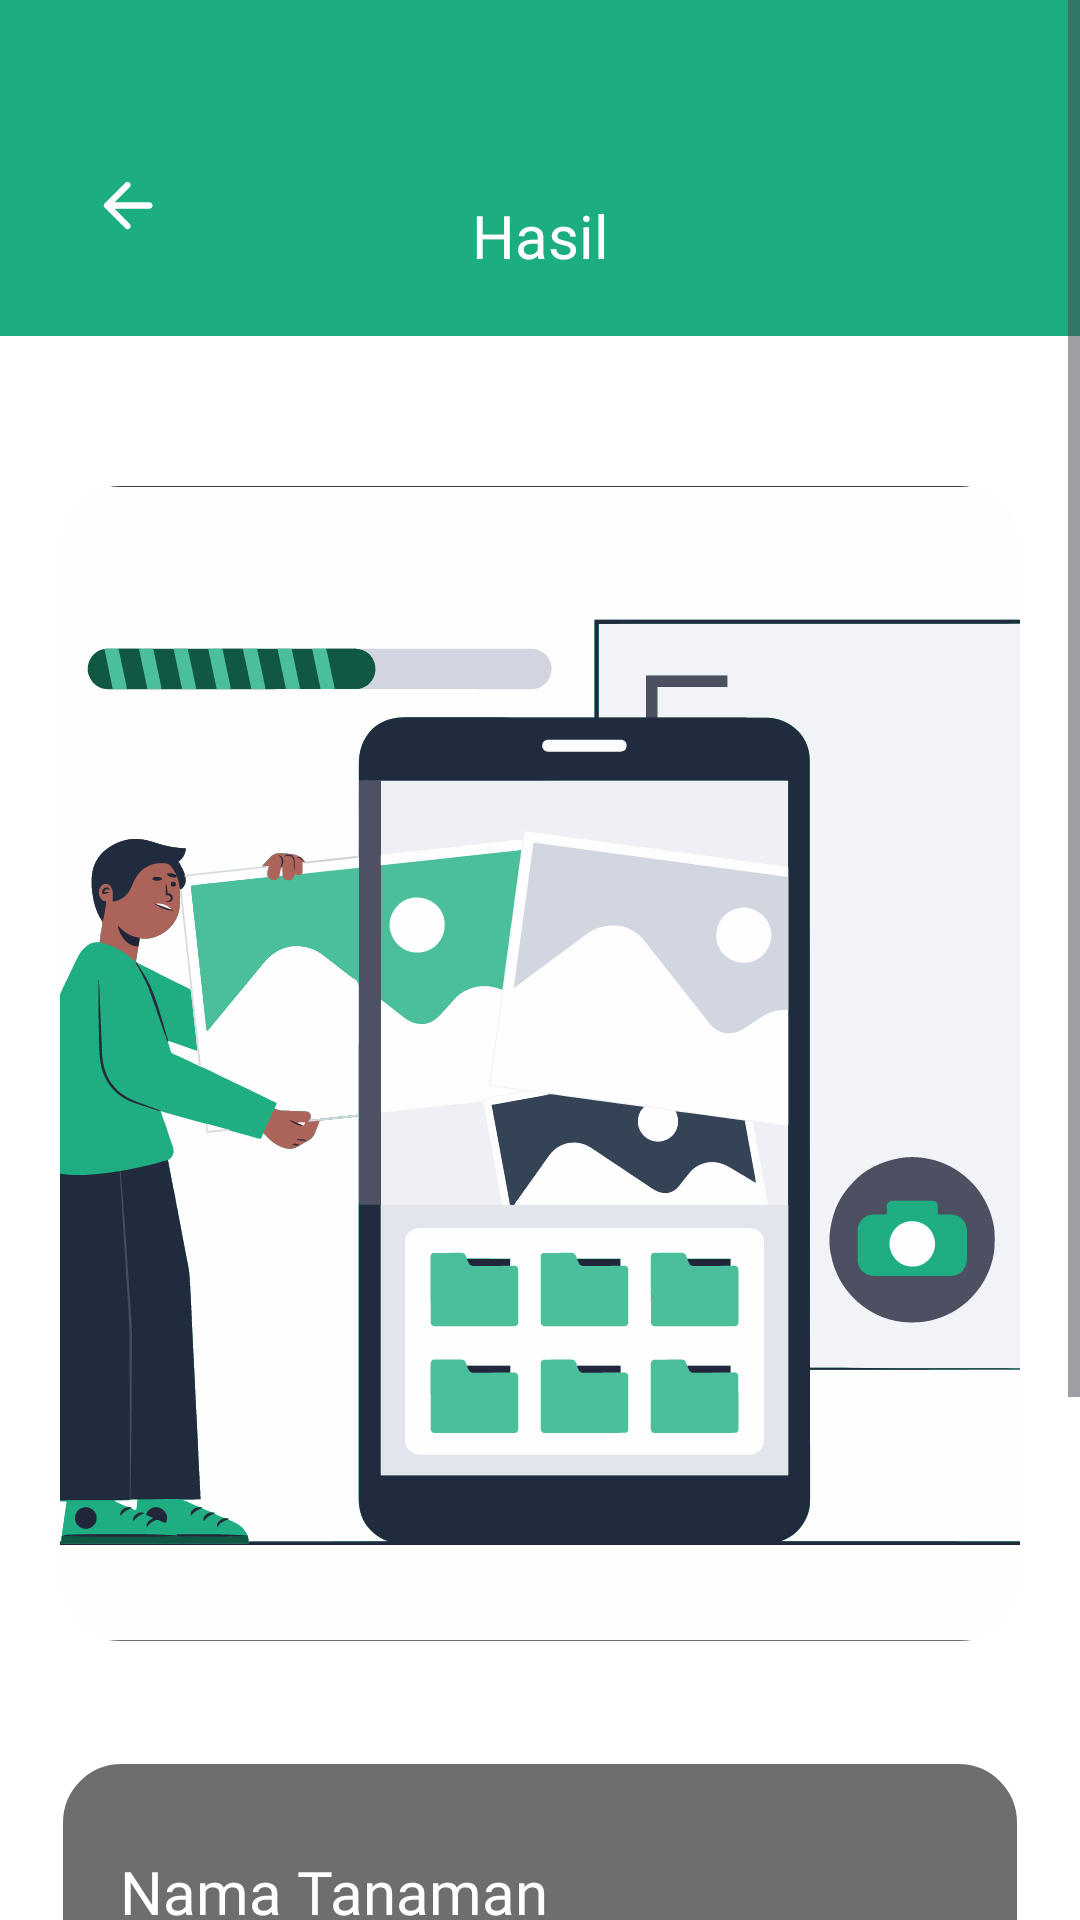

Icon bounding boxes for this 1080×1920 phone screenshot, format (x1=x1, y1=y1, x2=x2, y2=y2):
Kembali: (x1=103, y1=181, x2=153, y2=230)
